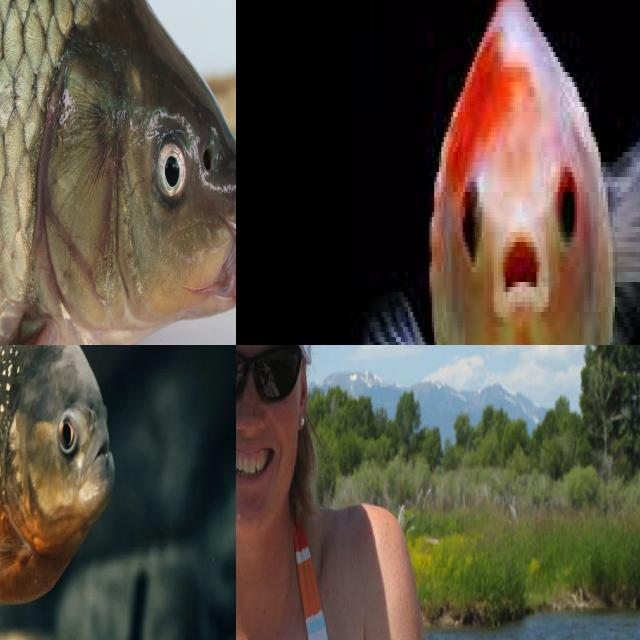fish: (0, 0, 236, 345), (415, 0, 640, 345), (0, 345, 154, 640)
